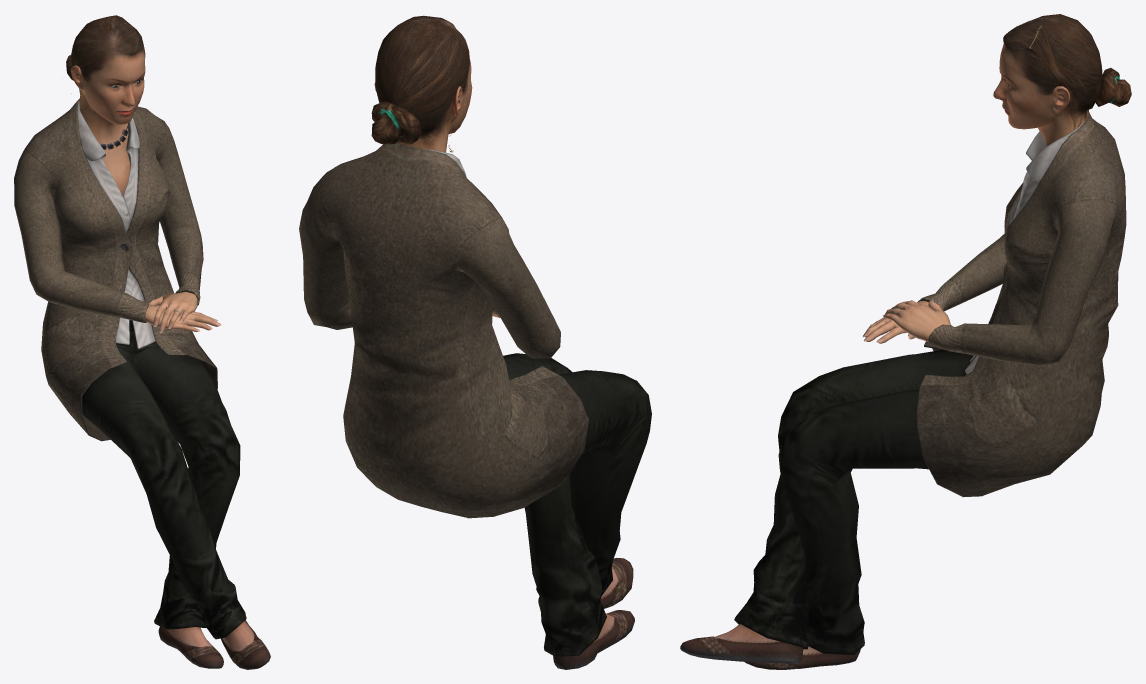
The model's file is Female_Adult_09.glb.
3 renders of one model, left to right at view 1: azimuth 30°, elevation 25°; view 2: azimuth 150°, elevation 25°; view 3: azimuth 270°, elevation 25°, orthographic. The views are drawn at different scales.
Parts seen in each view (by area): view 1: Female_Adult_09; view 2: Female_Adult_09; view 3: Female_Adult_09.
Part boxes in pixels (x1=…): Female_Adult_09: x1=14, y1=15, x2=270, y2=669; Female_Adult_09: x1=299, y1=15, x2=651, y2=669; Female_Adult_09: x1=680, y1=14, x2=1131, y2=669.
Bounding box in the file's own units: 0.4797 × 1.42 × 0.879.
3 materials, 3 textured.
